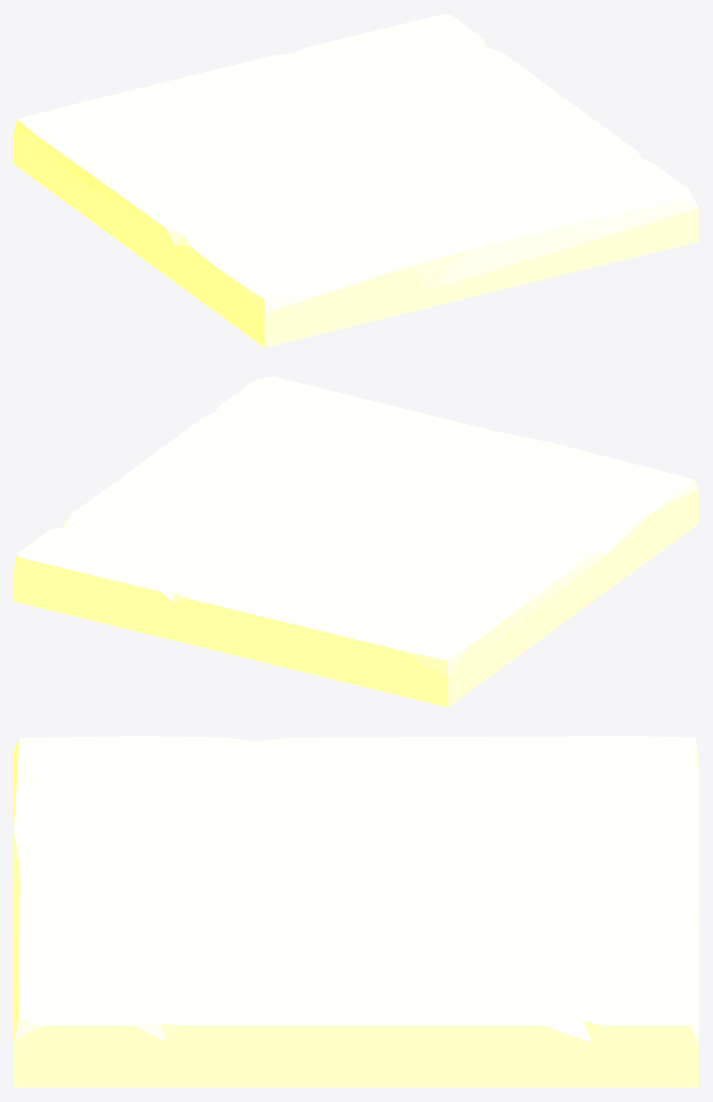
File: Tile.glb
3 views of the same model, one above another, from view 1: azimuth 30°, elevation 25°; view 2: azimuth 150°, elevation 25°; view 3: azimuth 270°, elevation 25° (orthographic). The views are drawn at different scales.
Parts seen in each view (by area): view 1: SM_PolygonPrototype_Buildings_Floor_5x5_01P; view 2: SM_PolygonPrototype_Buildings_Floor_5x5_01P; view 3: SM_PolygonPrototype_Buildings_Floor_5x5_01P.
Boxes of the visible parts, x1=… form: SM_PolygonPrototype_Buildings_Floor_5x5_01P: x1=14, y1=14, x2=698, y2=347; SM_PolygonPrototype_Buildings_Floor_5x5_01P: x1=14, y1=376, x2=698, y2=707; SM_PolygonPrototype_Buildings_Floor_5x5_01P: x1=14, y1=736, x2=698, y2=1087.
Size of the model in its own units: 1 by 0.1 by 1.
